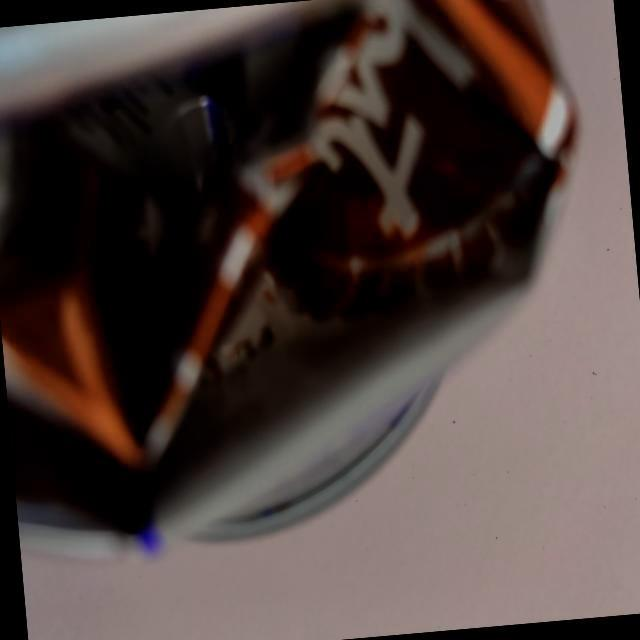metal: (0, 0, 631, 627)
